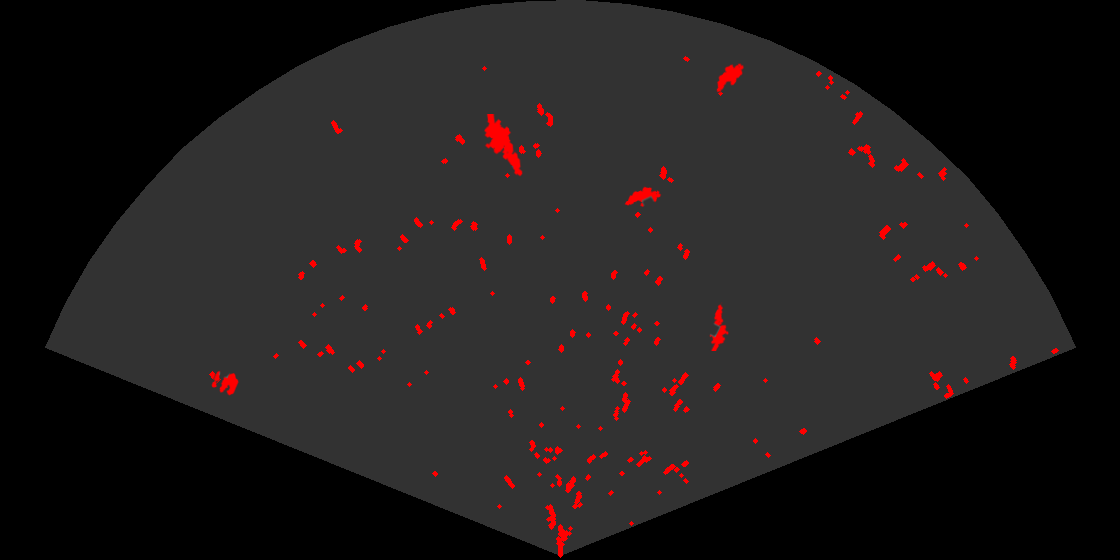AUV: (715, 62, 746, 94), (623, 185, 663, 209)
ball: (210, 369, 240, 397)
frogman: (483, 114, 524, 178), (708, 302, 730, 351)
